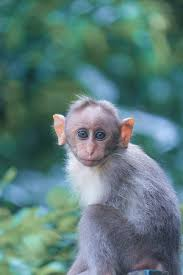monkey: (30, 85, 183, 253)
